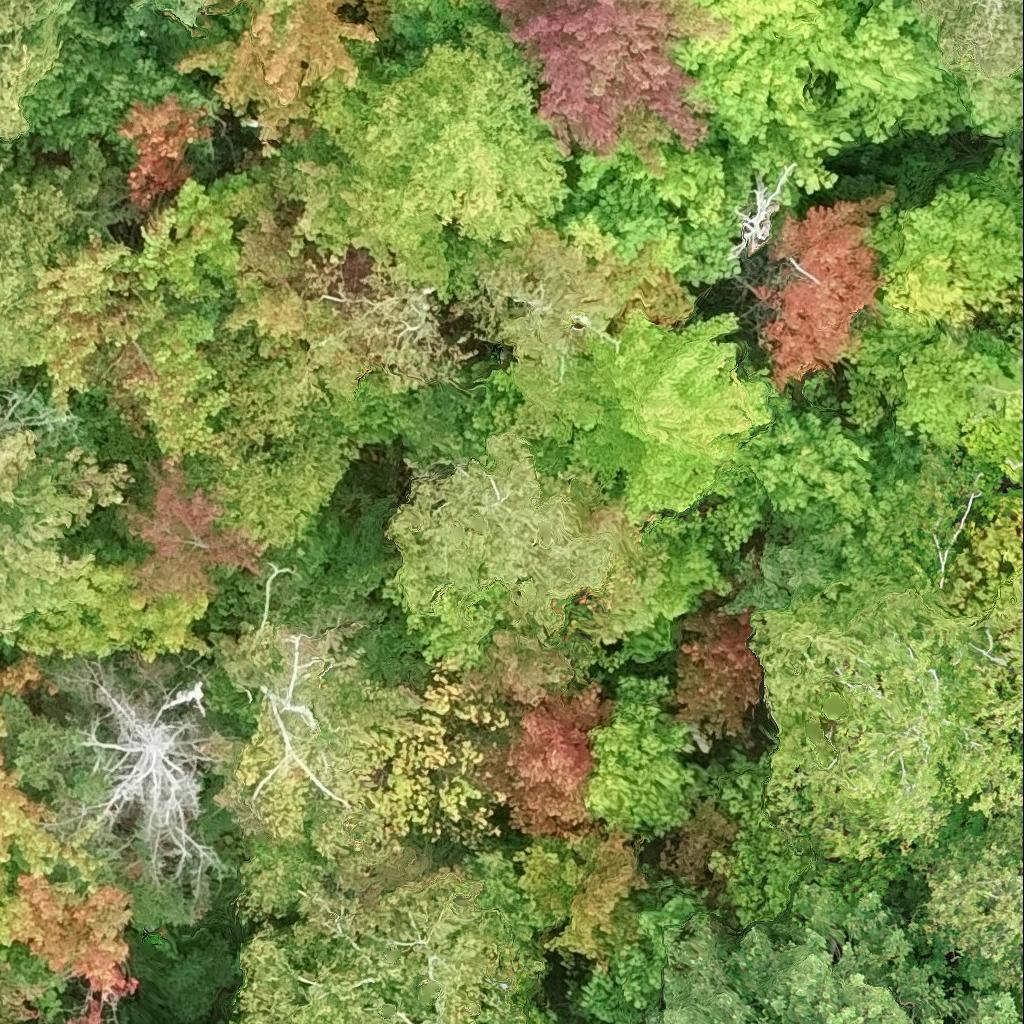crown: (747, 450, 1023, 864), (193, 618, 515, 927), (311, 21, 580, 301), (377, 426, 673, 664), (166, 313, 414, 553), (225, 849, 550, 1023), (35, 202, 245, 464), (646, 881, 1023, 1023), (222, 198, 477, 398), (536, 311, 775, 524), (474, 226, 696, 436), (492, 0, 735, 172), (706, 394, 930, 572), (683, 746, 915, 917), (448, 621, 614, 846), (59, 672, 220, 898), (0, 386, 135, 649), (177, 0, 399, 156), (534, 131, 741, 280), (898, 801, 1023, 1018), (754, 189, 891, 386), (876, 149, 1023, 332), (0, 136, 108, 375), (0, 658, 101, 897), (117, 457, 269, 603), (0, 863, 137, 1023), (509, 830, 666, 967), (163, 154, 296, 315), (894, 328, 1023, 490), (17, 559, 210, 662), (947, 496, 1023, 752), (584, 675, 696, 836), (578, 884, 703, 1023), (913, 0, 1023, 133), (841, 295, 943, 437), (271, 123, 370, 261), (675, 610, 760, 738), (659, 795, 737, 912), (0, 0, 76, 90), (729, 162, 801, 256), (0, 3, 37, 140), (0, 944, 57, 1023), (387, 0, 495, 37), (165, 0, 206, 25), (1010, 66, 1023, 89), (545, 1013, 565, 1023)
